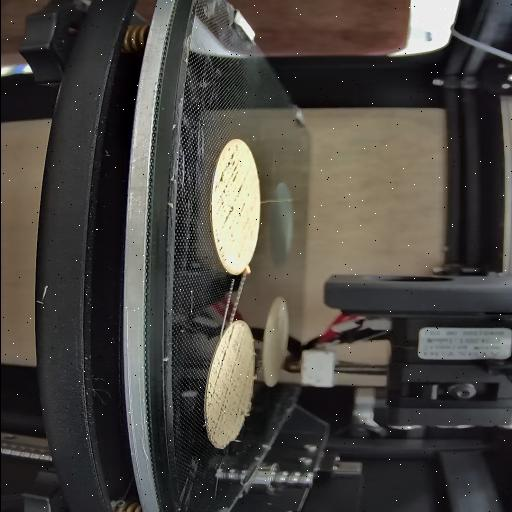under_extrusion: (208, 324, 246, 430), (214, 142, 246, 260)
